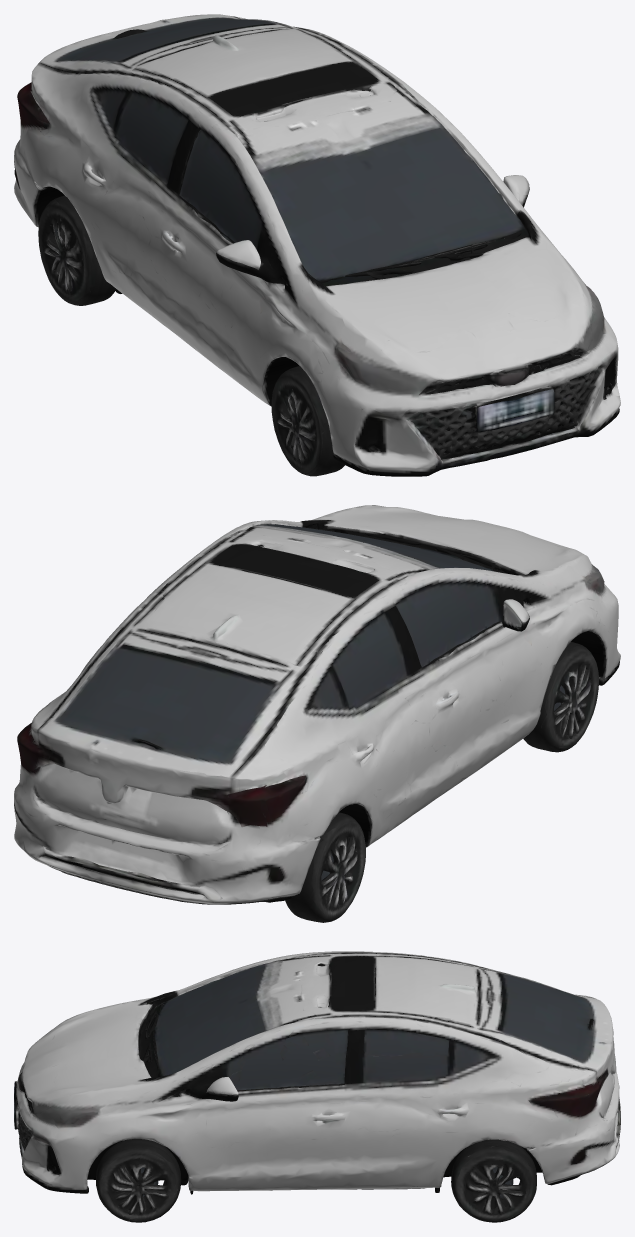
File: vehiculo2_new.glb
3 renders of one model, top to bottom at view 1: azimuth 30°, elevation 25°; view 2: azimuth 150°, elevation 25°; view 3: azimuth 270°, elevation 25°, orthographic. The views are drawn at different scales.
Visible parts, largest first — view 1: world; view 2: world; view 3: world.
Boxes of the visible parts, left/top/right/bottom form: world: left=14, top=14, right=620, bottom=476; world: left=14, top=505, right=620, bottom=922; world: left=14, top=951, right=620, bottom=1222.
Bounding box in the file's own units: 0.4482 × 0.3492 × 1.
1 material, 1 textured.
